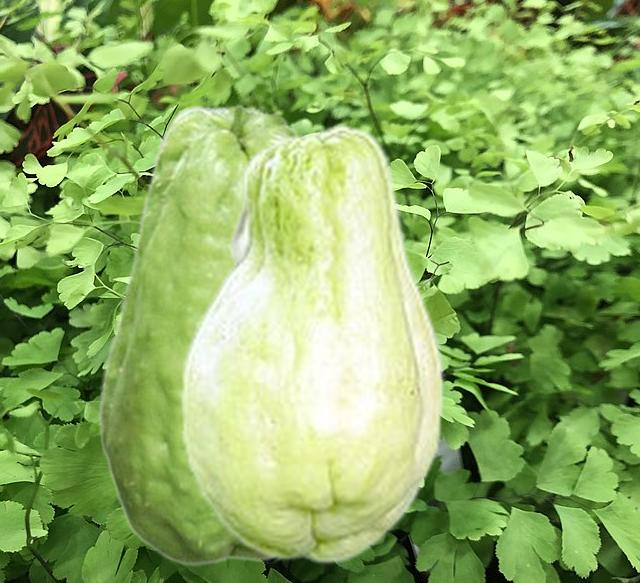sayote: (179, 123, 443, 564), (97, 103, 298, 567)
